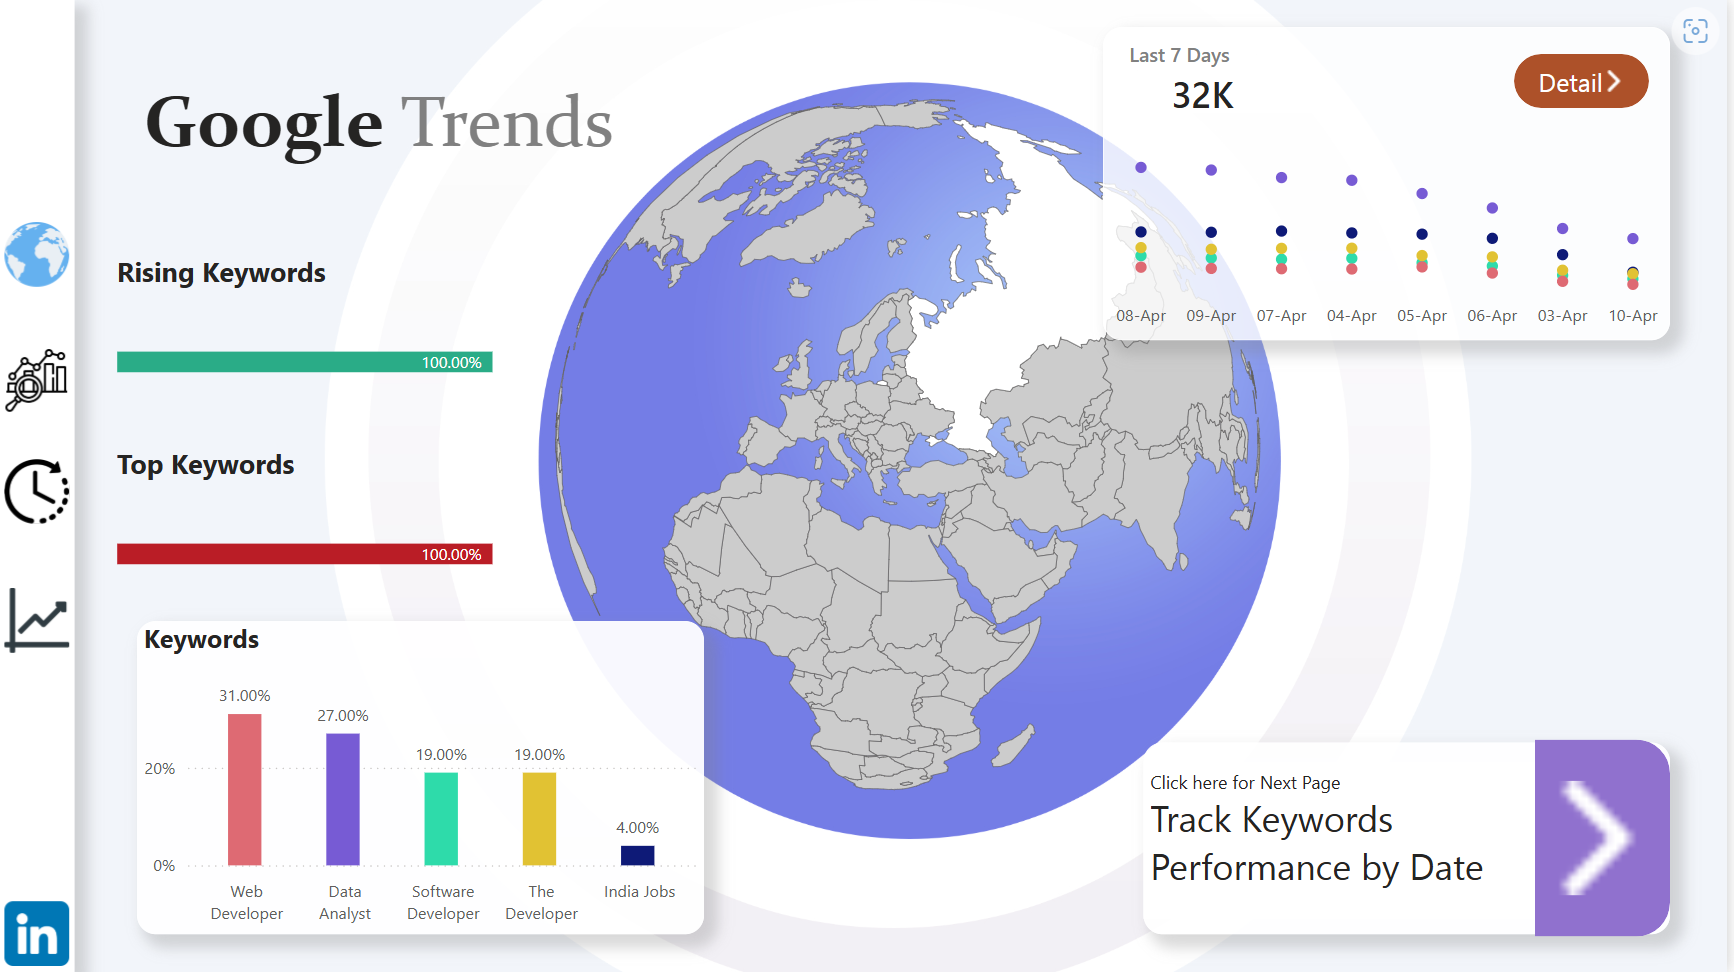

The dashboard page shown, as its layout file describes it:
{"tool":"powerbi","page":{"name":"Overview","canvas":[1280,720],"ordinal":0},"visuals":[{"type":"shapeMap","fields":{"Category":["Country_API.Country"]},"box":[338,40,670,578],"z":1000},{"type":"shape","box":[0,0,56,720],"z":2000},{"type":"shape","box":[102,460,420,232],"z":3000},{"type":"shape","box":[818,20,420,232],"z":4000},{"type":"shape","box":[848,550,390,142],"z":5000},{"type":"actionButton","box":[1138,548,100,146],"z":6000},{"type":"clusteredColumnChart","title":"Keywords","fields":{"Y":["Country_Measures.Country_Value"],"Category":["Country_API.Keywords"]},"box":[102,460,420,232],"z":7000},{"type":"lineChart","fields":{"Series":["Past_7_Days_Searches.Keywords"],"Y":["Past_7_Days_Searches.Last_7_Days_Value"],"Category":["Past_7_Days_Searches.New-Date"]},"box":[818,106,420,146],"z":8000},{"type":"actionButton","title":"Detail","box":[1122,40,100,40],"z":9000},{"type":"card","title":"Last 7 Days","fields":{"Values":["Past_7_Days_Searches.Last_7_Days_Value"]},"box":[832,30,118,60],"z":10000},{"type":"textbox","box":[848,564,290,116],"z":11000},{"type":"textbox","box":[102,52,534,76],"z":11001},{"type":"hundredPercentStackedBarChart","title":"Top Keywords","fields":{"Y":["CountNonNull(Top_Keywords.Category)"]},"box":[82,330,288,128],"z":11003},{"type":"hundredPercentStackedBarChart","title":"Rising Keywords","fields":{"Y":["CountNonNull(Rising_Keywords.Category)"]},"box":[82,188,288,128],"z":11004},{"type":"actionButton","box":[0,154,56,68],"z":11005},{"type":"actionButton","box":[0,248,56,68],"z":11006},{"type":"actionButton","box":[0,330,56,68],"z":11007},{"type":"actionButton","box":[0,426,56,68],"z":11008},{"type":"actionButton","box":[0,662,56,58],"z":11009}]}

Visuals, with their boxes on the page's 1280x720 design canvas (x1, y1, x2, y2). These are canvas units, not pixel positions in the 1734x972 screenshot, which may show the page scaled, cropped or inside an application window:
shapeMap - Country_API.Country: select_region(338, 40, 1008, 618)
shape: select_region(0, 0, 56, 720)
shape: select_region(102, 460, 522, 692)
shape: select_region(818, 20, 1238, 252)
shape: select_region(848, 550, 1238, 692)
actionButton: select_region(1138, 548, 1238, 694)
"Keywords" clusteredColumnChart: select_region(102, 460, 522, 692)
lineChart - Past_7_Days_Searches.Keywords x Past_7_Days_Searches.Last_7_Days_Value: select_region(818, 106, 1238, 252)
"Detail" actionButton: select_region(1122, 40, 1222, 80)
"Last 7 Days" card: select_region(832, 30, 950, 90)
textbox: select_region(848, 564, 1138, 680)
textbox: select_region(102, 52, 636, 128)
"Top Keywords" hundredPercentStackedBarChart: select_region(82, 330, 370, 458)
"Rising Keywords" hundredPercentStackedBarChart: select_region(82, 188, 370, 316)
actionButton: select_region(0, 154, 56, 222)
actionButton: select_region(0, 248, 56, 316)
actionButton: select_region(0, 330, 56, 398)
actionButton: select_region(0, 426, 56, 494)
actionButton: select_region(0, 662, 56, 720)
